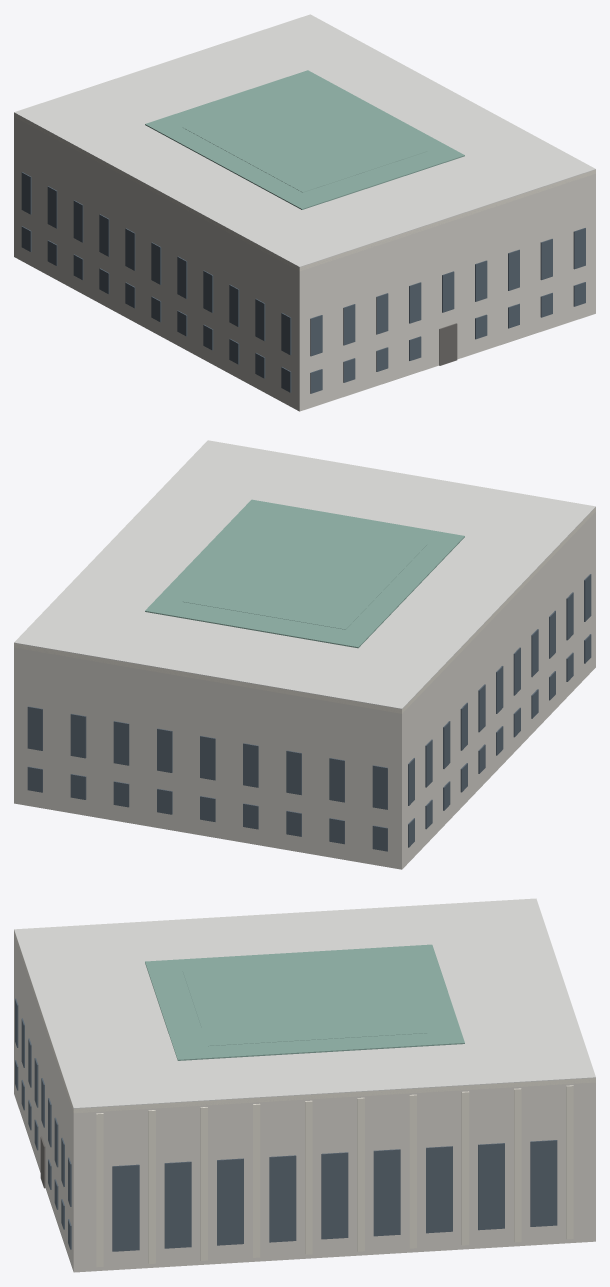
File: d_695_pleasant.glb
3 views of the same model, one above another, from view 1: azimuth 30°, elevation 25°; view 2: azimuth 150°, elevation 25°; view 3: azimuth 270°, elevation 25° (orthographic). The views are drawn at different scales.
Parts seen in each view (by area): view 1: mass, roofdeck, monitor_top, monitor, cornice, door_s; view 2: mass, roofdeck, monitor_top, monitor, cornice, win_2_8.5_1, win_2_8.5_2, win_2_8.5_5, win_2_8.5_0, win_2_8.5_3, win_2_8.5_4, win_2_8.5_6 (+2 smaller); view 3: roofdeck, mass, monitor_top, monitor, cornice, colwin_1, colwin_3, colwin_4, colwin_0, colwin_5, colwin_8, colwin_2 (+12 smaller).
Boxes of the visible parts, box(x1,y1,x2,y2) form: mass: box(14, 114, 595, 411); roofdeck: box(14, 14, 595, 267); monitor_top: box(183, 86, 426, 192); monitor: box(145, 70, 464, 209); cornice: box(14, 113, 595, 271); door_s: box(439, 323, 457, 365); mass: box(14, 512, 595, 869); roofdeck: box(14, 440, 595, 709); monitor_top: box(183, 516, 426, 629); monitor: box(145, 499, 464, 648); cornice: box(14, 507, 595, 713); win_2_8.5_1: box(70, 713, 86, 758); win_2_8.5_2: box(113, 721, 129, 765); win_2_8.5_5: box(243, 743, 258, 787); win_2_8.5_0: box(27, 706, 42, 750); win_2_8.5_3: box(157, 728, 172, 772); win_2_8.5_4: box(200, 736, 215, 780); win_2_8.5_6: box(286, 750, 301, 795); roofdeck: box(14, 898, 595, 1108); mass: box(14, 933, 595, 1272); monitor_top: box(183, 958, 426, 1046); monitor: box(145, 944, 464, 1060); cornice: box(14, 931, 595, 1113); colwin_1: box(164, 1161, 191, 1248); colwin_3: box(269, 1155, 296, 1242); colwin_4: box(321, 1152, 348, 1239); colwin_0: box(112, 1164, 139, 1251); colwin_5: box(373, 1149, 400, 1236); colwin_8: box(530, 1140, 557, 1226); colwin_2: box(217, 1158, 243, 1245).
Bounding box in the file's own units: 47.56 × 17.53 × 55.78.
